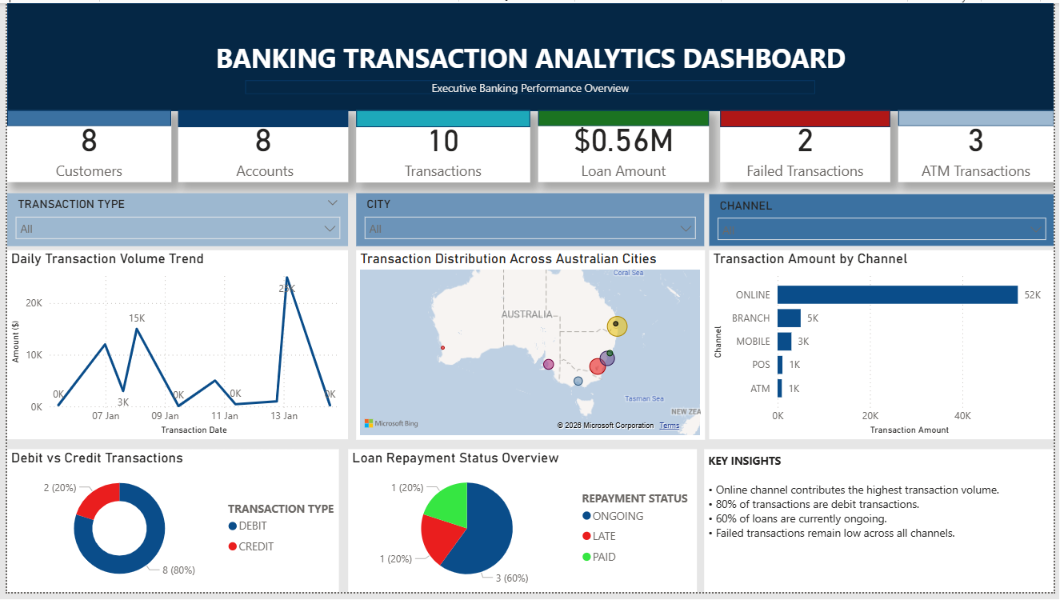

This screenshot's page, from the dashboard's own definition file:
{"tool":"powerbi","page":{"name":"Page 1","canvas":[1280,720],"ordinal":0},"visuals":[{"type":"card","fields":{"Values":["CUSTOMERS.Total Customers"]},"box":[0,130.8,200.5,88],"z":0},{"type":"card","fields":{"Values":["ACCOUNTS.Total Accounts"]},"box":[209.1,130.8,207.9,88],"z":1000},{"type":"card","fields":{"Values":["CountNonNull(TRANSACTIONS.TRANSACTION_ID)"]},"box":[426.8,132.1,212.8,86.8],"z":2000},{"type":"card","fields":{"Values":["Sum(LOANS.LOAN_AMOUNT)"]},"box":[649.3,130.8,209.1,88],"z":3000},{"type":"card","fields":{"Values":["TRANSACTIONS.Failed Transactions"]},"box":[871.9,130.8,207.9,88],"z":4000},{"type":"card","fields":{"Values":["TRANSACTIONS.Total ATM Transactions"]},"box":[1089.5,130.8,190.8,88],"z":5000},{"type":"lineChart","title":"Daily Transaction Volume Trend","fields":{"Y":["Sum(TRANSACTIONS.AMOUNT)"],"Category":["TRANSACTIONS.TRANSACTION_DATE"]},"box":[0,240.9,339.9,244.6],"z":6000},{"type":"donutChart","title":"Debit vs Credit Transactions","fields":{"Category":["TRANSACTIONS.TRANSACTION_TYPE"],"Y":["CountNonNull(TRANSACTIONS.TRANSACTION_ID)"]},"box":[0,496.5,426.8,223.8],"z":7000},{"type":"barChart","title":"Transaction Amount by Channel","fields":{"Category":["TRANSACTIONS.CHANNEL"],"Y":["Sum(TRANSACTIONS.AMOUNT)"]},"box":[785.1,240.9,294.7,244.6],"z":8000},{"type":"pieChart","title":"Loan Repayment Status Overview","fields":{"Category":["LOANS.REPAYMENT_STATUS"],"Y":["CountNonNull(LOANS.LOAN_ID)"]},"box":[441.4,496.5,452.4,223.8],"z":9000},{"type":"map","title":"Transaction Activity Across Cities","fields":{"Category":["CUSTOMERS.CITY"],"Size":["CountNonNull(TRANSACTIONS.TRANSACTION_ID)"]},"box":[349.7,240.9,426.8,244.6],"z":10000},{"type":"slicer","fields":{"Values":["TRANSACTIONS.TRANSACTION_TYPE"]},"box":[1089.5,240.9,190.8,178.5],"z":11000},{"type":"slicer","fields":{"Values":["CUSTOMERS.CITY"]},"box":[1089.5,430.4,190.8,289.8],"z":12000},{"type":"slicer","fields":{"Values":["TRANSACTIONS.CHANNEL"]},"box":[902.5,496.5,177.3,223.8],"z":13000},{"type":"shape","box":[0,0,1280.3,132.1],"z":14000},{"type":"shape","box":[291,94.2,697,17.1],"z":15000},{"type":"shape","box":[0,130.8,200.5,19.6],"z":16000},{"type":"shape","box":[209.1,130.8,207.9,20.8],"z":17000},{"type":"shape","box":[426.8,130.8,212.8,20.8],"z":18000},{"type":"shape","box":[649.3,130.8,209.1,19.6],"z":19000},{"type":"shape","box":[871.9,130.8,207.9,20.8],"z":20000},{"type":"shape","box":[1089.5,130.8,190.8,19.6],"z":21000}]}

Visuals, with their boxes in screenshot pixels (x1, y1, x2, y2), scaled from the page's 1280x720 canvas onto the 1060x600 screenshot:
card - CUSTOMERS.Total Customers: 0:109:166:182
card - ACCOUNTS.Total Accounts: 173:109:345:182
card - CountNonNull(TRANSACTIONS.TRANSACTION_ID): 353:110:530:182
card - Sum(LOANS.LOAN_AMOUNT): 538:109:711:182
card - TRANSACTIONS.Failed Transactions: 722:109:894:182
card - TRANSACTIONS.Total ATM Transactions: 902:109:1059:182
"Daily Transaction Volume Trend" lineChart: 0:201:281:405
"Debit vs Credit Transactions" donutChart: 0:414:353:599
"Transaction Amount by Channel" barChart: 650:201:894:405
"Loan Repayment Status Overview" pieChart: 366:414:740:599
"Transaction Activity Across Cities" map: 290:201:643:405
slicer - TRANSACTIONS.TRANSACTION_TYPE: 902:201:1059:350
slicer - CUSTOMERS.CITY: 902:359:1059:599
slicer - TRANSACTIONS.CHANNEL: 747:414:894:599
shape: 0:0:1059:110
shape: 241:78:818:93
shape: 0:109:166:125
shape: 173:109:345:126
shape: 353:109:530:126
shape: 538:109:711:125
shape: 722:109:894:126
shape: 902:109:1059:125
